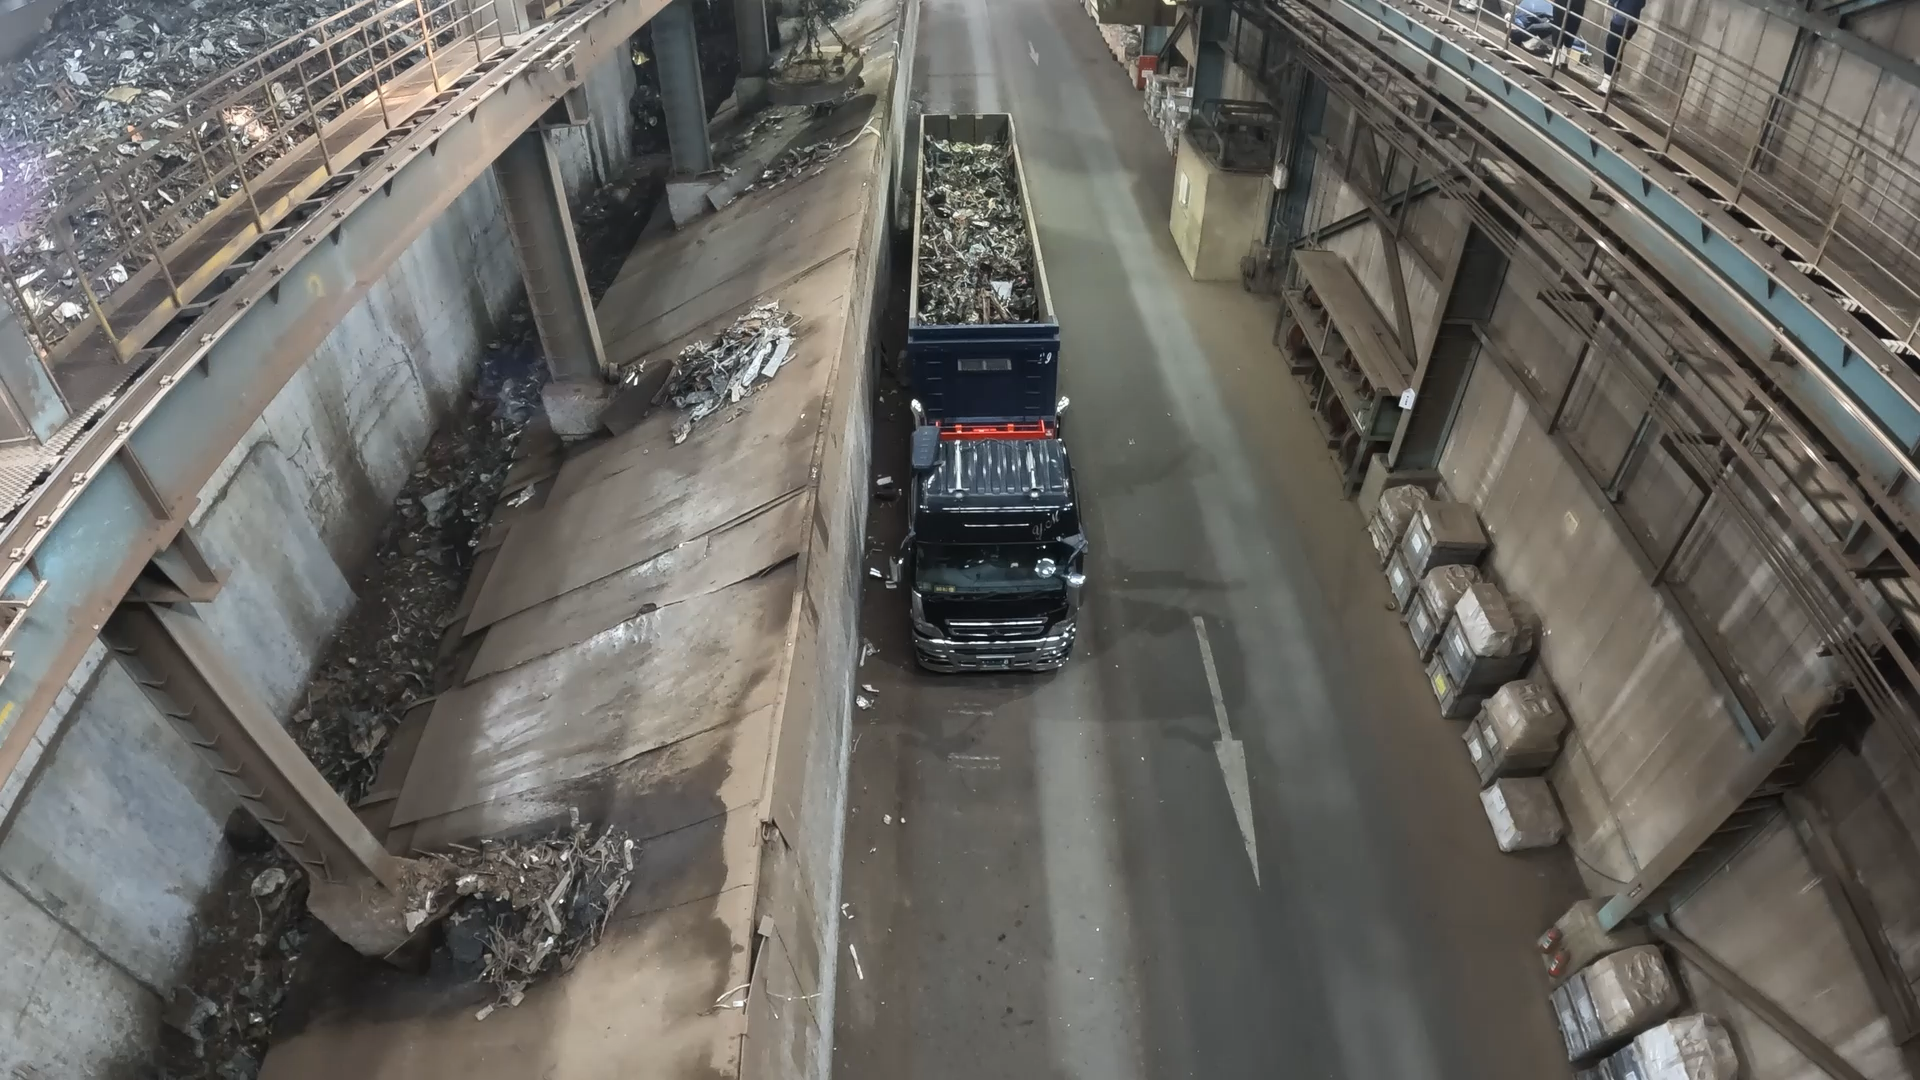truck: (911, 113, 1056, 328)
